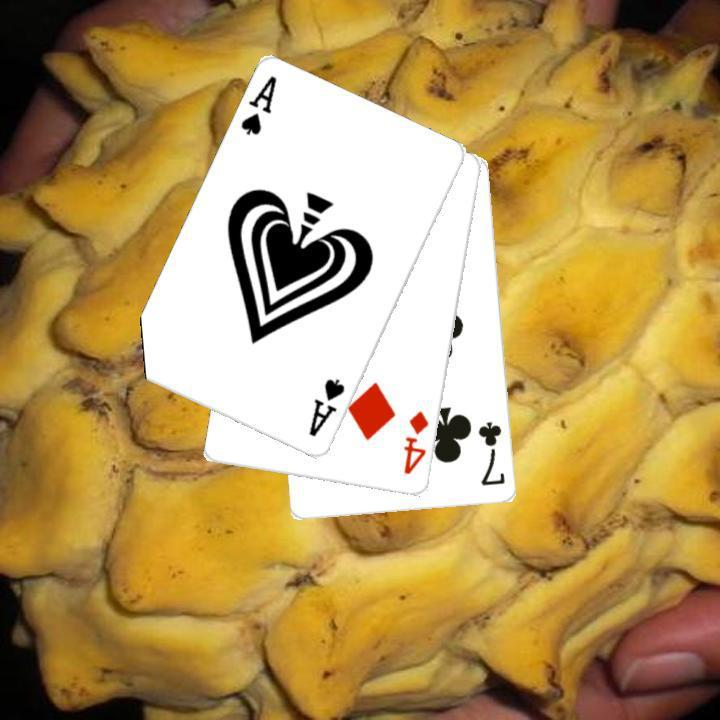4: (400, 407, 432, 477)
7: (474, 418, 508, 488)
A: (236, 71, 279, 138), (304, 375, 347, 439)
